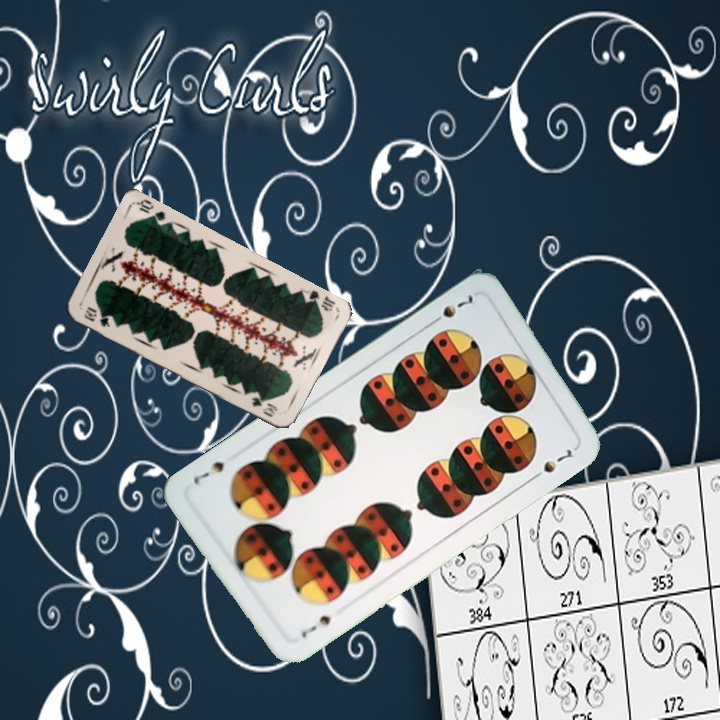G10: (299, 285, 338, 314), (79, 303, 112, 330)
S7: (425, 291, 476, 329), (297, 611, 336, 641)
